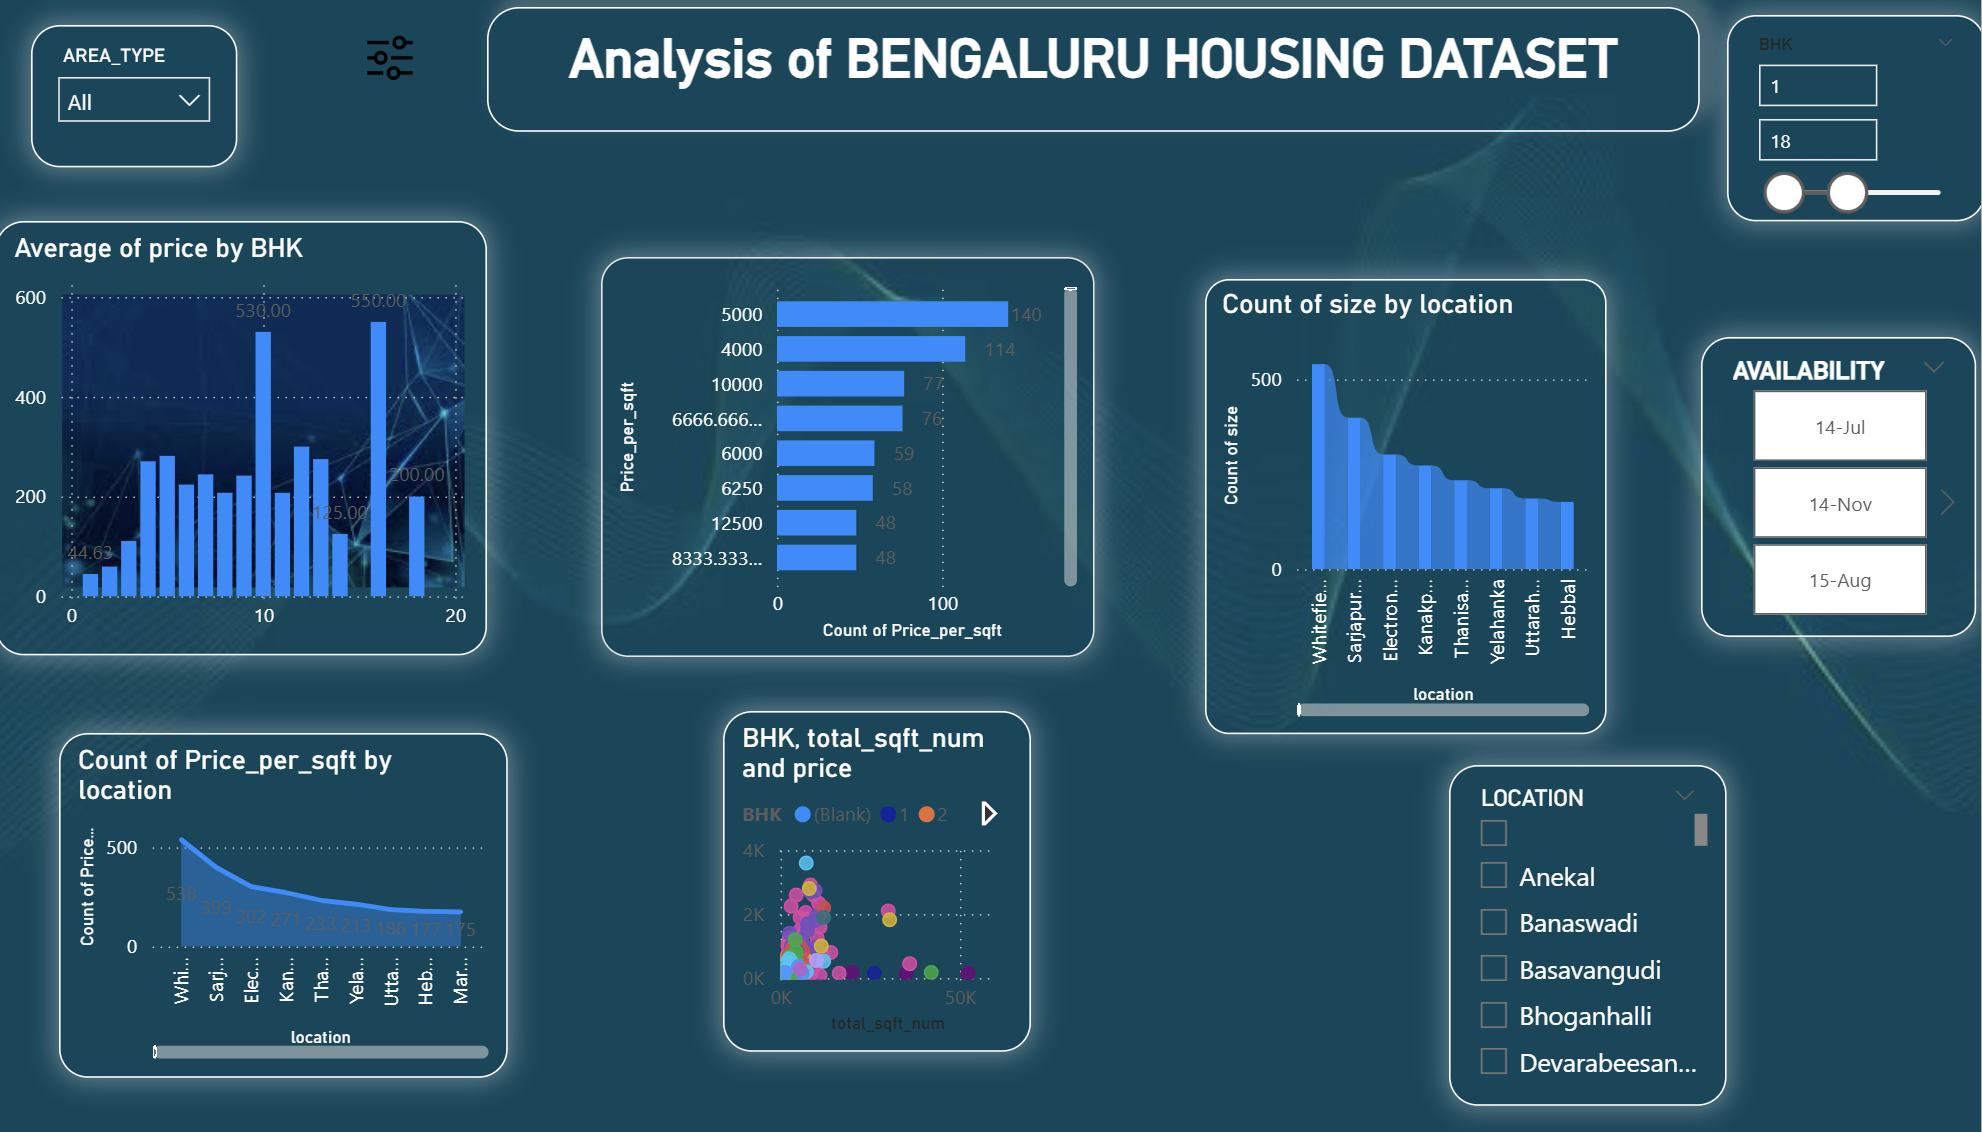

The dashboard page shown, as its layout file describes it:
{"tool":"powerbi","page":{"name":"Dashboard","canvas":[1280,720],"ordinal":0},"visuals":[{"type":"textbox","box":[309,10.5,758.2,78],"z":2000},{"type":"clusteredColumnChart","fields":{"Category":["Bengaluru_House_Data_new.BHK"],"Y":["Avg(Bengaluru_House_Data_new.price)"]},"box":[1.3,144.1,307.3,271.6],"z":3000},{"type":"clusteredBarChart","fields":{"Category":["Bengaluru_House_Data_new.Price_per_sqft"],"Y":["CountNonNull(Bengaluru_House_Data_new.Price_per_sqft)"]},"box":[379.9,165.7,308.5,249.9],"z":4000},{"type":"ribbonChart","fields":{"Category":["Bengaluru_House_Data_new.location"],"Y":["CountNonNull(Bengaluru_House_Data_new.size)"]},"box":[757.3,179.8,251.2,284.3],"z":5000},{"type":"stackedAreaChart","fields":{"Category":["Bengaluru_House_Data_new.location"],"Y":["CountNonNull(Bengaluru_House_Data_new.Price_per_sqft)"]},"box":[40.8,464.1,280.5,215.5],"z":6000},{"type":"scatterChart","fields":{"X":["Bengaluru_House_Data_new.total_sqft_num"],"Y":["Bengaluru_House_Data_new.price"],"Series":["Bengaluru_House_Data_new.BHK"]},"box":[456.4,450,192.5,212.9],"z":7000},{"type":"slicer","fields":{"Values":["Bengaluru_House_Data_new.location"]},"box":[910.3,483.2,173.4,212.9],"z":8000},{"type":"slicer","fields":{"Values":["Bengaluru_House_Data_new.BHK"]},"box":[1083.8,15,161.2,128.8],"z":9000},{"type":"slicer","fields":{"Values":["Bengaluru_House_Data_new.area_type"]},"box":[24.2,21.7,128.8,89.2],"z":10000},{"type":"slicer","fields":{"Values":["Bengaluru_House_Data_new.availability"]},"box":[1067.1,216.7,172.1,187.4],"z":11000}]}

Visuals, with their boxes in screenshot pixels (x1, y1, x2, y2), scaled from the page's 1280x720 canvas onto the 1982x1132 screenshot:
textbox: <box>478,17,1652,139</box>
clusteredColumnChart - Bengaluru_House_Data_new.BHK x Avg(Bengaluru_House_Data_new.price): <box>2,227,478,654</box>
clusteredBarChart - Bengaluru_House_Data_new.Price_per_sqft x CountNonNull(Bengaluru_House_Data_new.Price_per_sqft): <box>588,261,1066,653</box>
ribbonChart - Bengaluru_House_Data_new.location x CountNonNull(Bengaluru_House_Data_new.size): <box>1173,283,1562,730</box>
stackedAreaChart - Bengaluru_House_Data_new.location x CountNonNull(Bengaluru_House_Data_new.Price_per_sqft): <box>63,730,498,1068</box>
scatterChart - Bengaluru_House_Data_new.total_sqft_num x Bengaluru_House_Data_new.price: <box>707,708,1005,1042</box>
slicer - Bengaluru_House_Data_new.location: <box>1410,760,1678,1094</box>
slicer - Bengaluru_House_Data_new.BHK: <box>1678,24,1928,226</box>
slicer - Bengaluru_House_Data_new.area_type: <box>37,34,237,174</box>
slicer - Bengaluru_House_Data_new.availability: <box>1652,341,1919,635</box>
